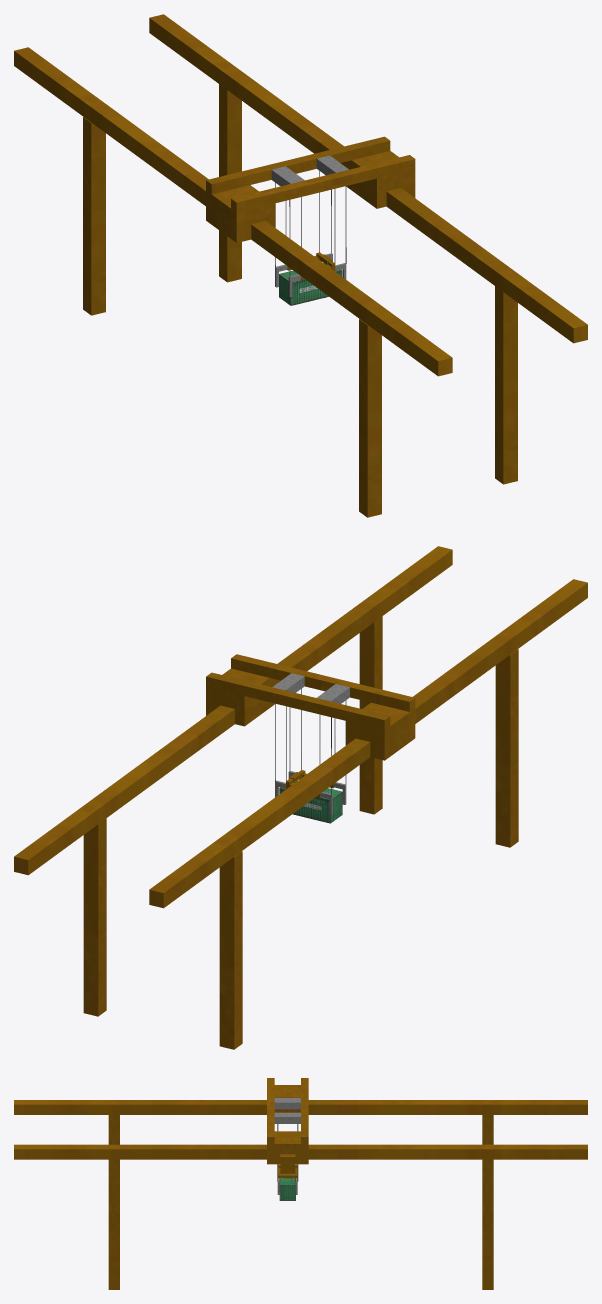
3 renders of one model, top to bottom at view 1: azimuth 30°, elevation 25°; view 2: azimuth 150°, elevation 25°; view 3: azimuth 270°, elevation 25°, orthographic. The views are drawn at different scales.
Visible parts, largest first — view 1: DN111_CanTruc2; view 2: DN111_CanTruc2; view 3: DN111_CanTruc2.
Part boxes in pixels (x1,y1,x2,y2): DN111_CanTruc2: (14,14,587,517); DN111_CanTruc2: (14,546,587,1049); DN111_CanTruc2: (14,1078,587,1289).
Bounding box in the file's own units: 21.75 × 26.01 × 85.9.
Materials: 1 (1 with a texture image).
